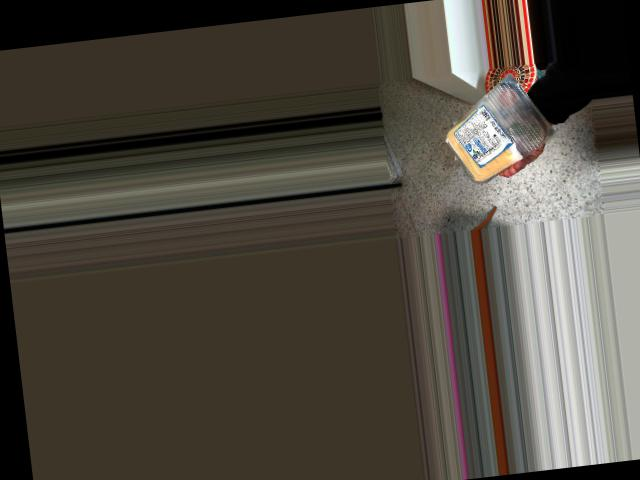cheese: (436, 80, 547, 180)
